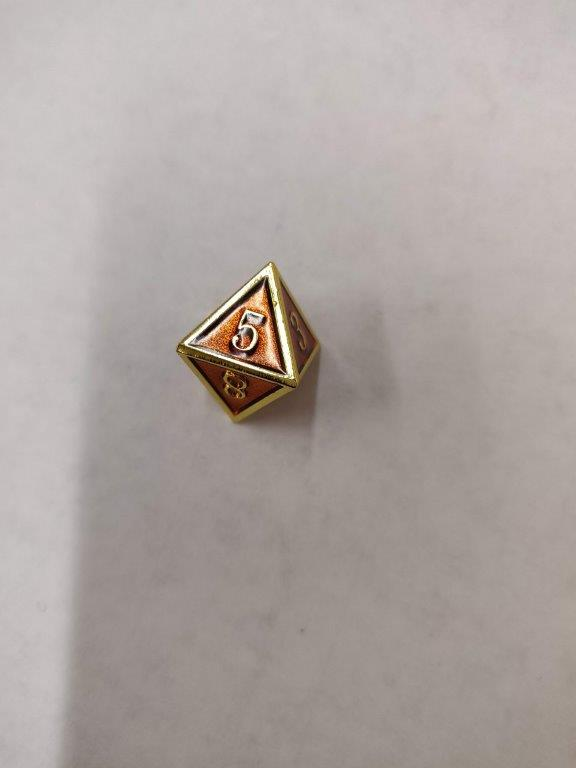d8-5: (172, 257, 323, 431)
